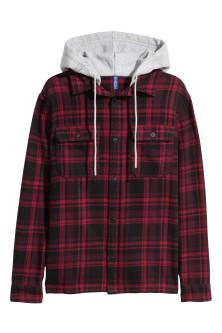teeshirt: (11, 33, 215, 315)
